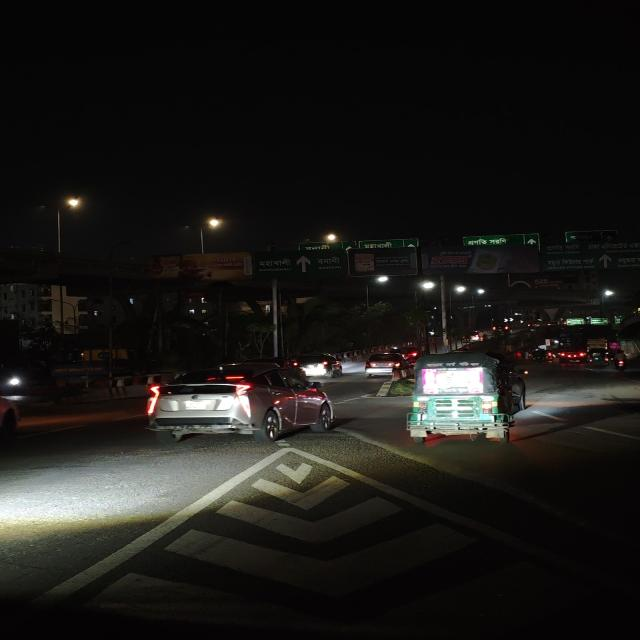car: (143, 361, 338, 447), (292, 351, 344, 379), (363, 351, 403, 379)
cng: (403, 351, 534, 446)
motorcycle: (613, 352, 628, 372)
